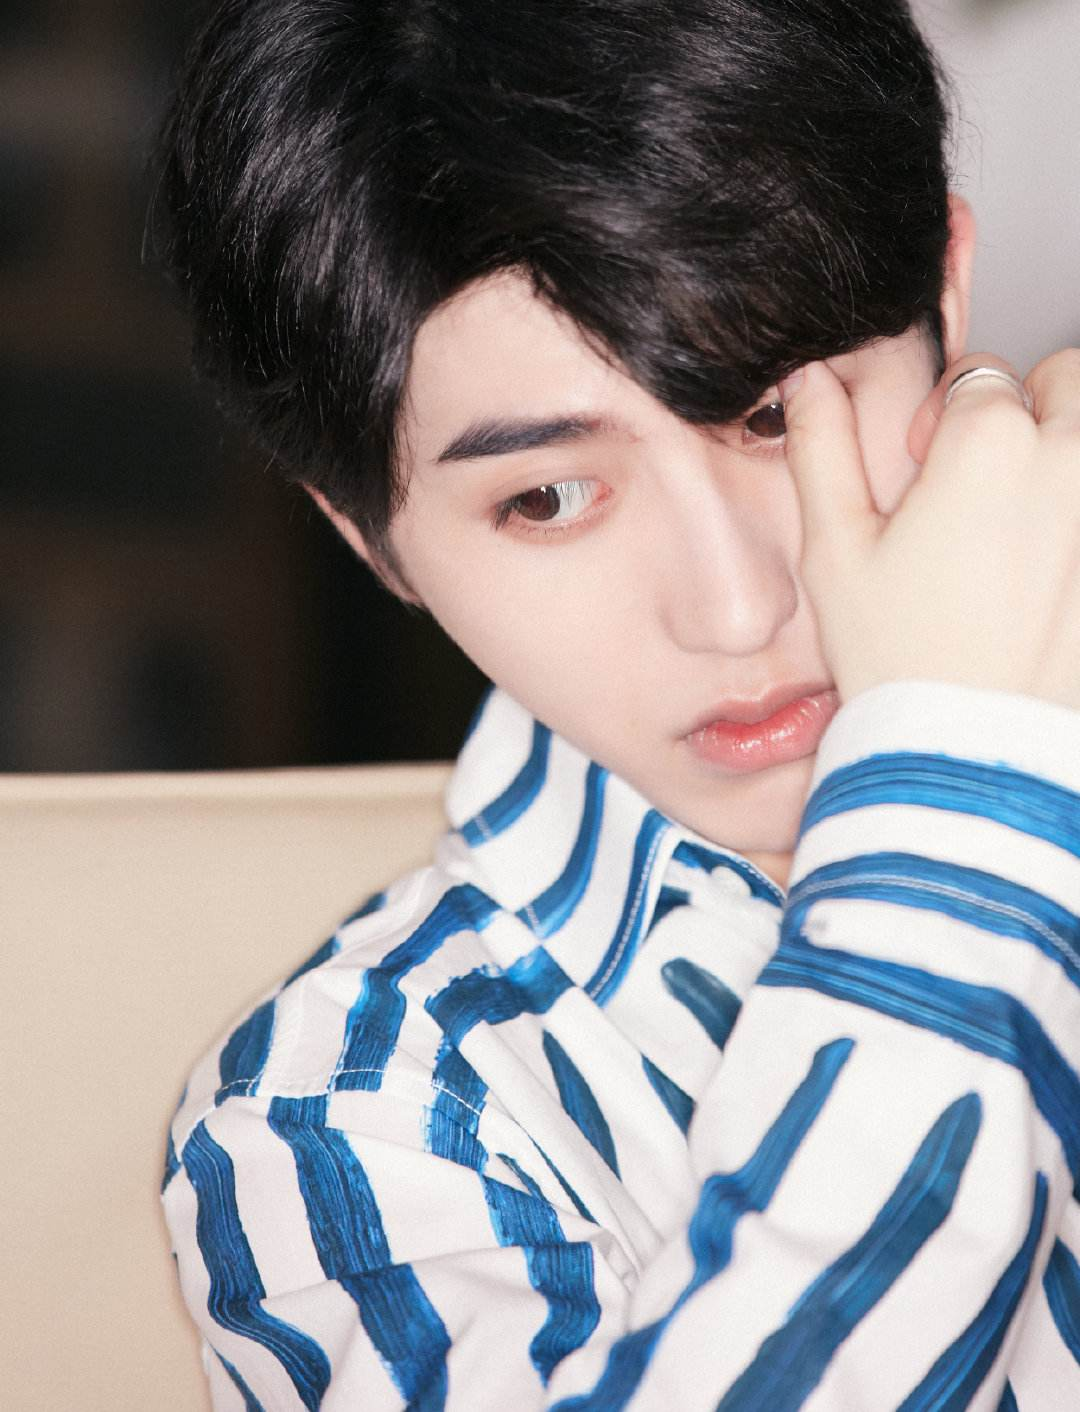person: (117, 32, 1007, 1412)
